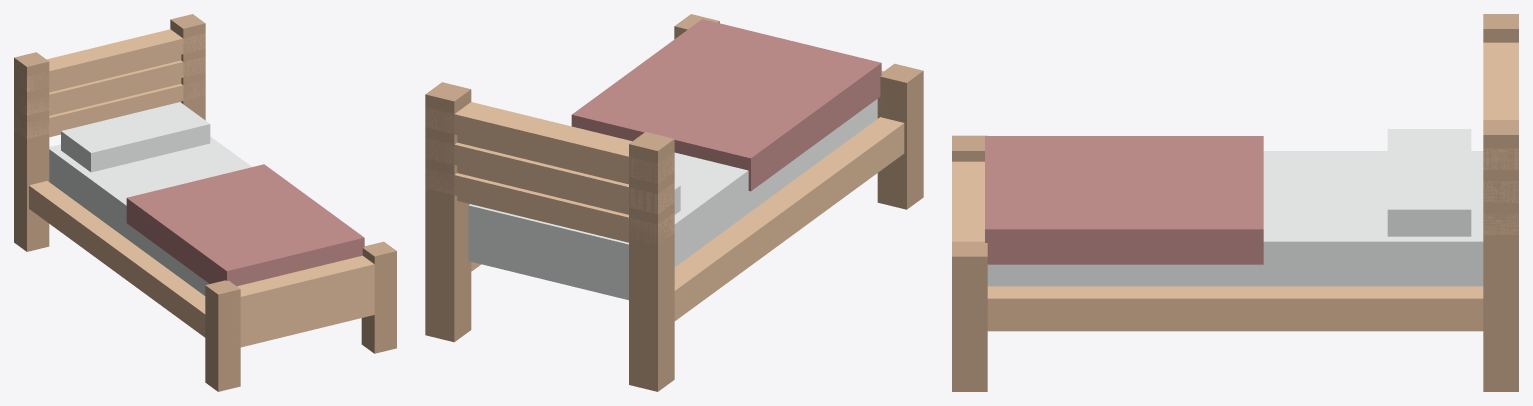
The model's file is bedSingleRustic.glb.
3 renders of one model, left to right at view 1: azimuth 30°, elevation 25°; view 2: azimuth 150°, elevation 25°; view 3: azimuth 270°, elevation 25°, orthographic. The views are drawn at different scales.
Visible parts, largest first — view 1: bedSingleRustic; view 2: bedSingleRustic; view 3: bedSingleRustic.
Boxes of the visible parts, x1,y1,x2,y2 form: bedSingleRustic: (14, 14, 396, 391); bedSingleRustic: (425, 14, 923, 391); bedSingleRustic: (952, 14, 1518, 391).
Size of the model in its own units: 0.48 by 0.475 by 0.95.
